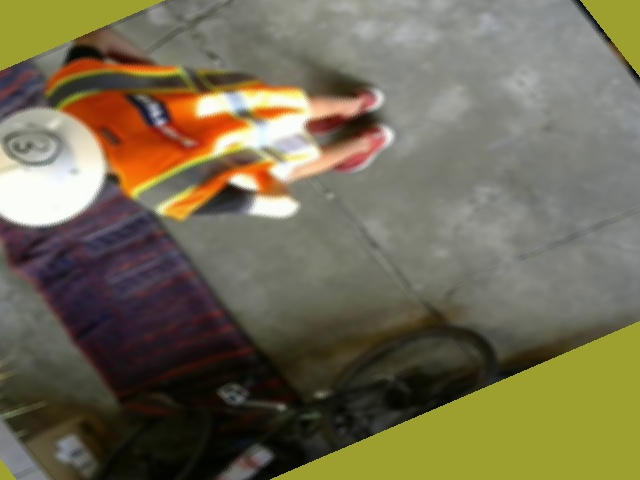three: (0, 119, 67, 173)
